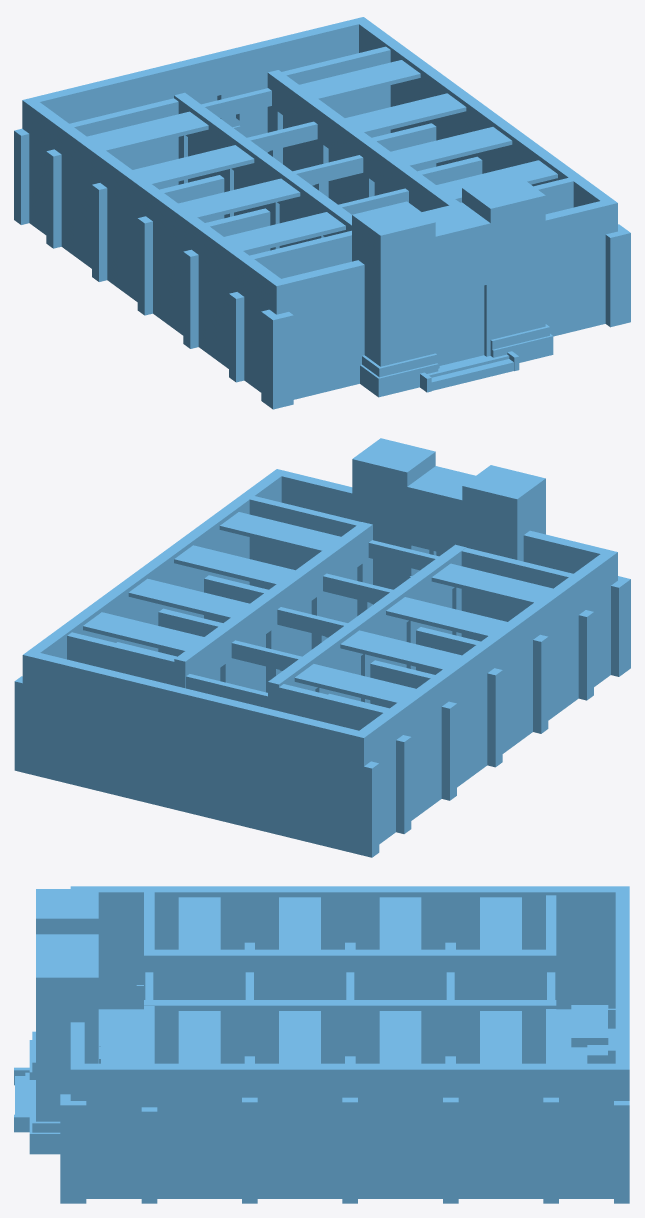
Rendered from Foso_V2_PHYS.dae.
The picture shows the model from 3 angles, top to bottom: view 1: azimuth 30°, elevation 25°; view 2: azimuth 150°, elevation 25°; view 3: azimuth 270°, elevation 25°; orthographic projection. The views are drawn at different scales.
Visible parts, largest first — view 1: G_Torre_O_PHYS, G_Muro_O_PHYS, G_Torre_E_PHYS, G_Muro_E_PHYS, C04_Muros_PHYS, N_Muro_O_PHYS, C02_Muros_PHYS, C03_Muros_PHYS, V_Muro_O_PHYS, C01_Muros_PHYS, N_Muro_Fondo_PHYS, G_Arco_PHYS (+28 smaller); view 2: N_Muro_O_PHYS, N_Muro_Fondo_PHYS, N_Muro_E_PHYS, C04_Muros_PHYS, V_Muro_O_PHYS, C01_Muros_PHYS, C02_Muros_PHYS, G_Torre_E_PHYS, G_Torre_O_PHYS, C03_Muros_PHYS, G_Arco_PHYS, G_Muro_O_PHYS (+28 smaller); view 3: C08_Muros_PHYS, C05_Muros_PHYS, C06_Muros_PHYS, C07_Muros_PHYS, N_Muro_E_PHYS, V_Muro_E_PHYS, G_Torre_E_PHYS, N_Muro_O_PHYS, V_Muro_O_PHYS, C04_Frente_PHYS, C01_Frente_PHYS, C02_Frente_PHYS (+29 smaller).
Part boxes in pixels (x1,y1,x2,y2): G_Torre_O_PHYS: (352, 201, 438, 397); G_Muro_O_PHYS: (261, 260, 364, 409); G_Torre_E_PHYS: (462, 174, 553, 362); G_Muro_E_PHYS: (545, 198, 630, 336); C04_Muros_PHYS: (46, 98, 178, 268); N_Muro_O_PHYS: (14, 73, 137, 234); C02_Muros_PHYS: (137, 190, 270, 335); C03_Muros_PHYS: (92, 157, 224, 301); V_Muro_O_PHYS: (229, 230, 351, 392); C01_Muros_PHYS: (183, 224, 251, 368); N_Muro_Fondo_PHYS: (131, 43, 261, 137); G_Arco_PHYS: (422, 202, 490, 368); N_Muro_O_PHYS: (255, 707, 399, 857); N_Muro_Fondo_PHYS: (131, 677, 260, 828); N_Muro_E_PHYS: (14, 628, 137, 798); C04_Muros_PHYS: (279, 676, 445, 833); V_Muro_O_PHYS: (461, 547, 611, 700); C01_Muros_PHYS: (416, 575, 582, 733); C02_Muros_PHYS: (370, 609, 536, 767); G_Torre_E_PHYS: (352, 438, 435, 604); G_Torre_O_PHYS: (462, 465, 545, 561); C03_Muros_PHYS: (328, 642, 490, 800); G_Arco_PHYS: (407, 466, 475, 579); G_Muro_O_PHYS: (523, 530, 630, 676); C08_Muros_PHYS: (450, 1009, 558, 1203); C05_Muros_PHYS: (149, 1056, 257, 1203); C06_Muros_PHYS: (249, 1056, 357, 1203); C07_Muros_PHYS: (350, 1056, 458, 1203); N_Muro_E_PHYS: (551, 1011, 629, 1203); V_Muro_E_PHYS: (84, 1006, 157, 1203); G_Torre_E_PHYS: (29, 948, 98, 1154); N_Muro_O_PHYS: (551, 886, 629, 1009); V_Muro_O_PHYS: (84, 886, 154, 1009); C04_Frente_PHYS: (450, 949, 556, 999); C01_Frente_PHYS: (144, 949, 249, 999); C02_Frente_PHYS: (249, 949, 350, 999).
Size of the model in its own units: 26 by 35.32 by 11.1.
